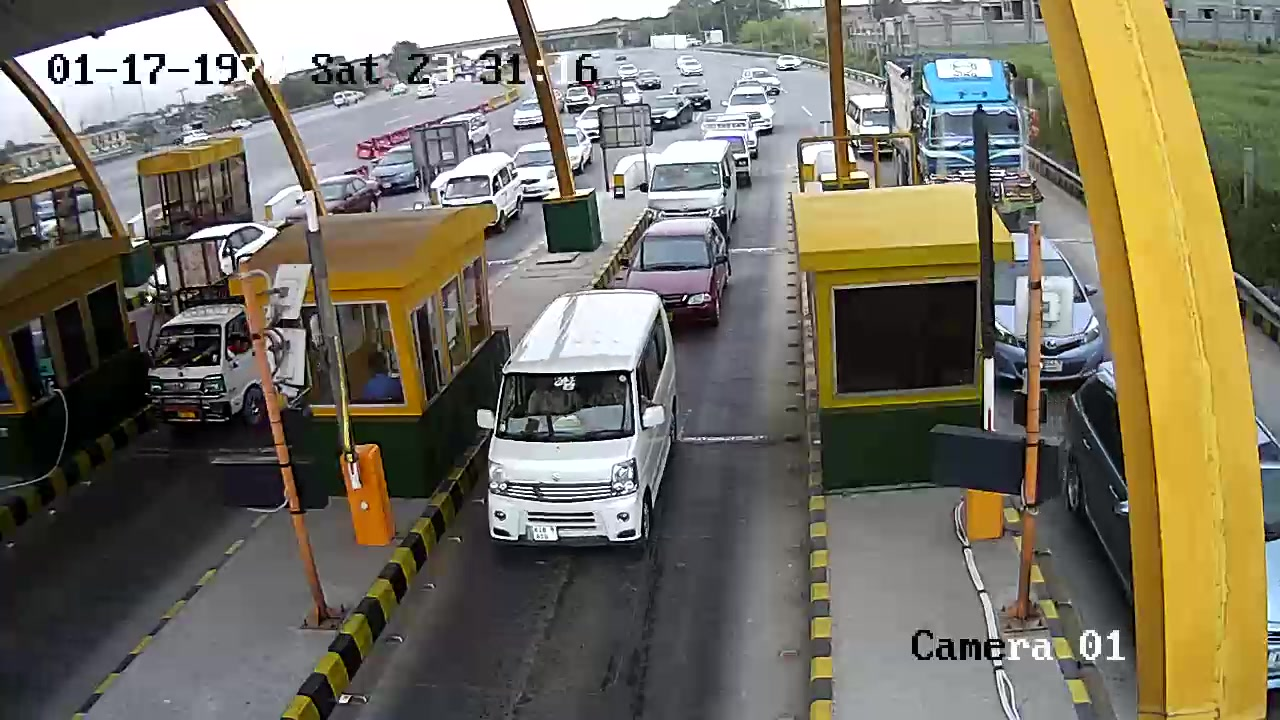F1: (485, 284, 684, 556)
